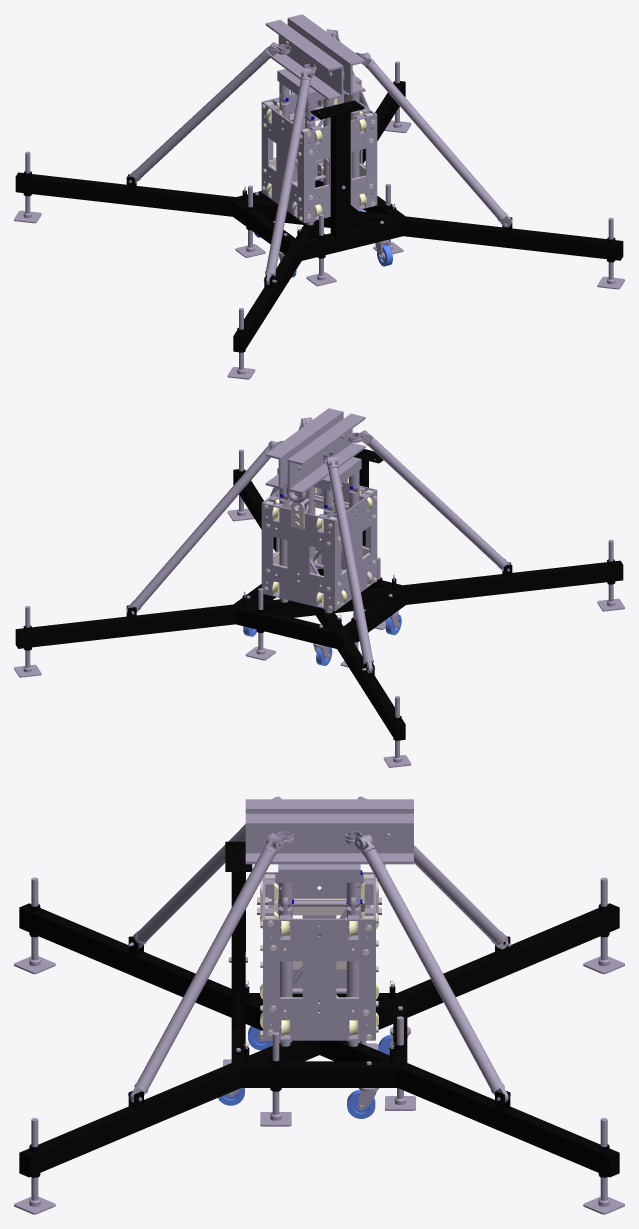
Rendered from 60304510_Alutruss_Tower_System_I-79e82ac1.glb.
3 renders of one model, top to bottom at view 1: azimuth 30°, elevation 25°; view 2: azimuth 150°, elevation 25°; view 3: azimuth 270°, elevation 25°, orthographic. The views are drawn at different scales.
Visible parts, largest first — view 1: Geom3D (×19); view 2: Geom3D (×15); view 3: Geom3D (×22).
Part boxes in pixels (x1=…): Geom3D (×19): x1=16, y1=14, x2=622, y2=351; Geom3D (×15): x1=16, y1=408, x2=622, y2=740; Geom3D (×22): x1=20, y1=799, x2=618, y2=1176.
Bounding box in the file's own units: 2.15 × 1.07 × 2.15.
